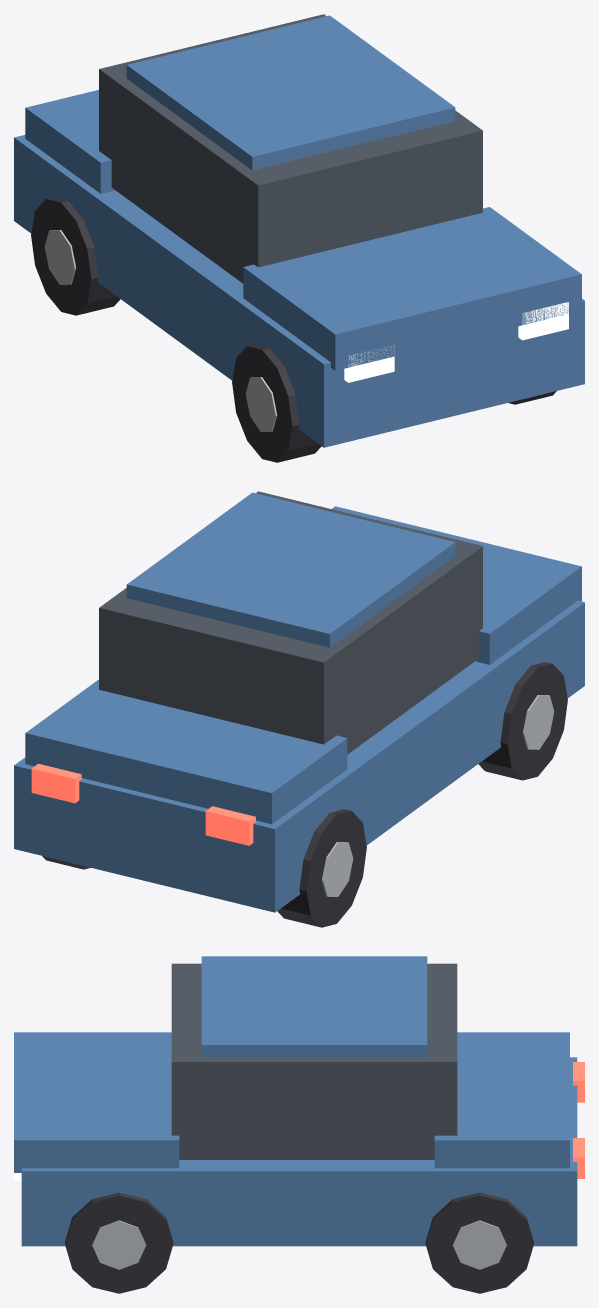
File: car_blue.glb
3 renders of one model, top to bottom at view 1: azimuth 30°, elevation 25°; view 2: azimuth 150°, elevation 25°; view 3: azimuth 270°, elevation 25°, orthographic. The views are drawn at different scales.
Parts seen in each view (by area): view 1: car_blue; view 2: car_blue; view 3: car_blue.
Boxes of the visible parts, bbox=[...] form: car_blue: bbox=[14, 14, 584, 462]; car_blue: bbox=[14, 491, 584, 927]; car_blue: bbox=[14, 956, 584, 1293].
Bounding box in the file's own units: 1.92 × 1.71 × 3.8.
